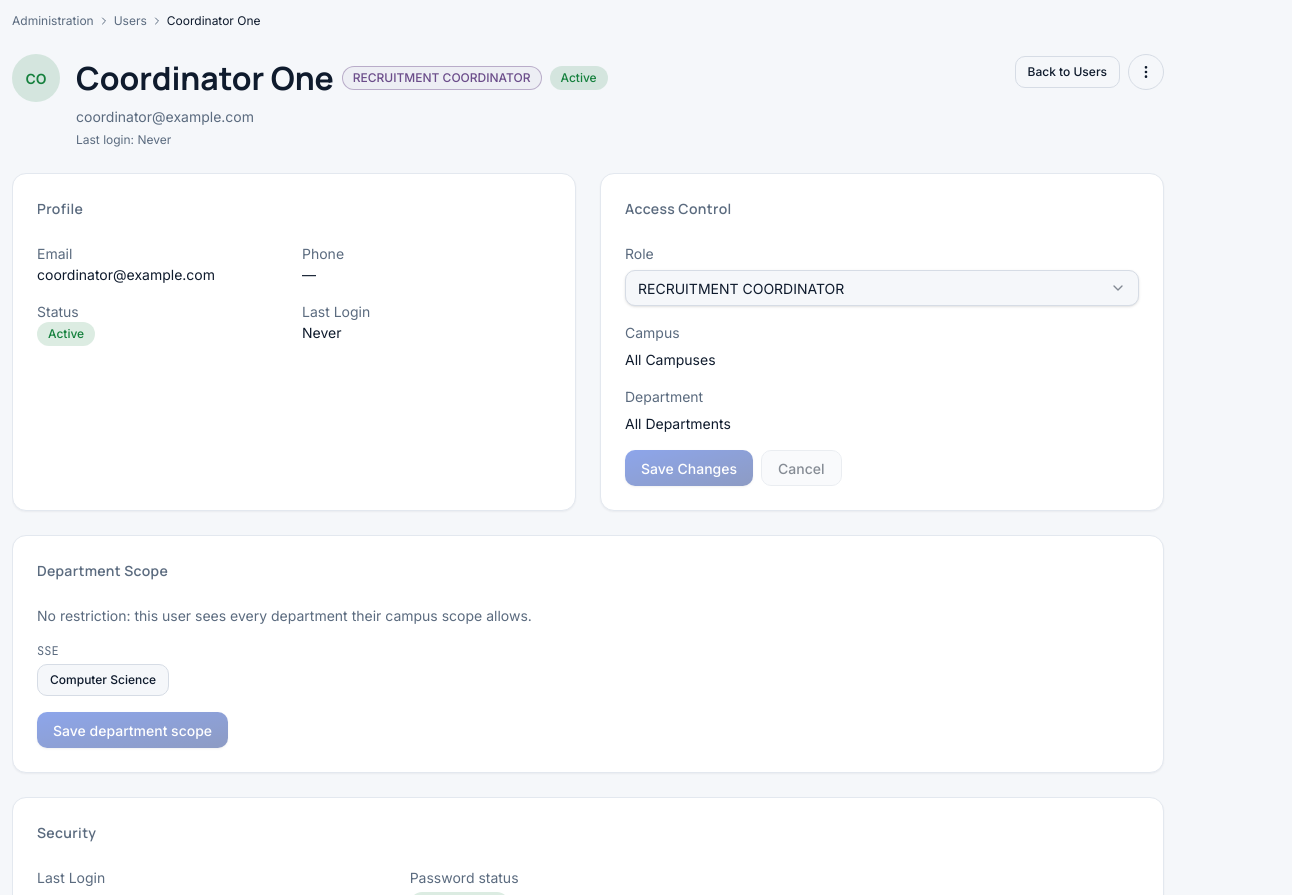
Test: UserDetailPage access control -- save/cancel › saves the new role and shows an inline confirmation
The width and height of the screenshot is (1292, 895).
Click the dropdown named "Role" at (741, 288), box [625,270,1139,306]
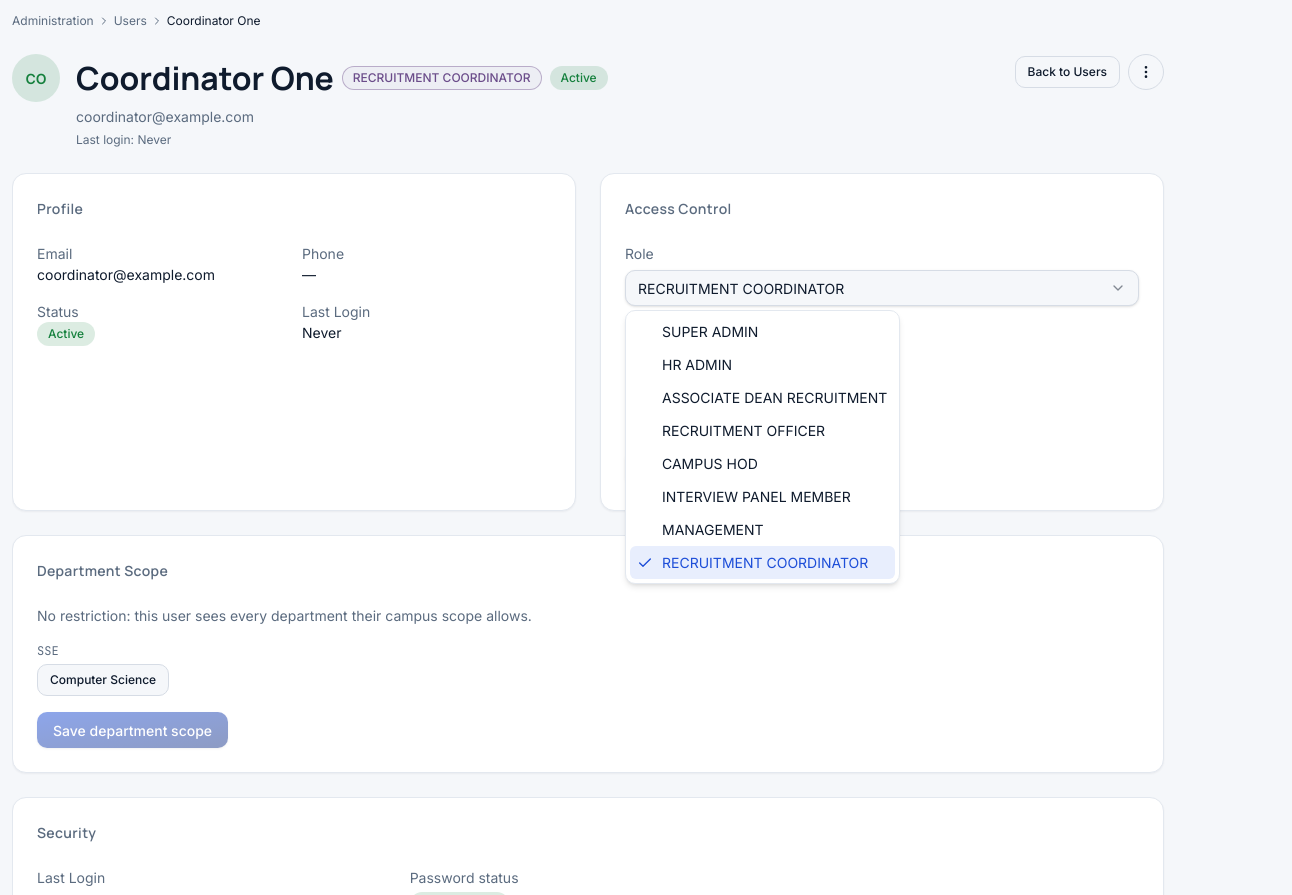
Click the option "SUPER ADMIN" at (710, 332), box [662,323,758,340]
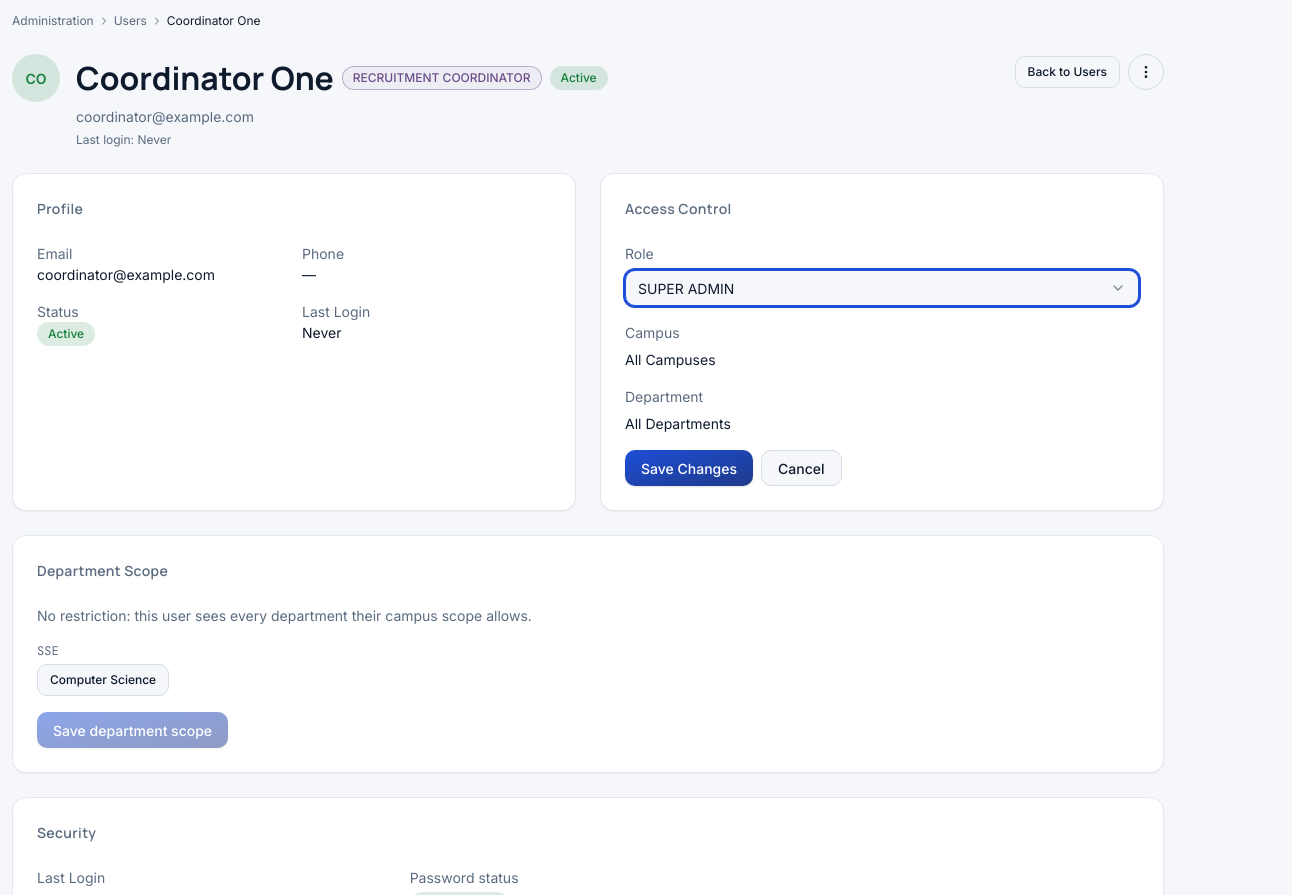
Click the button "Save Changes" at (689, 468), box [625,450,753,486]
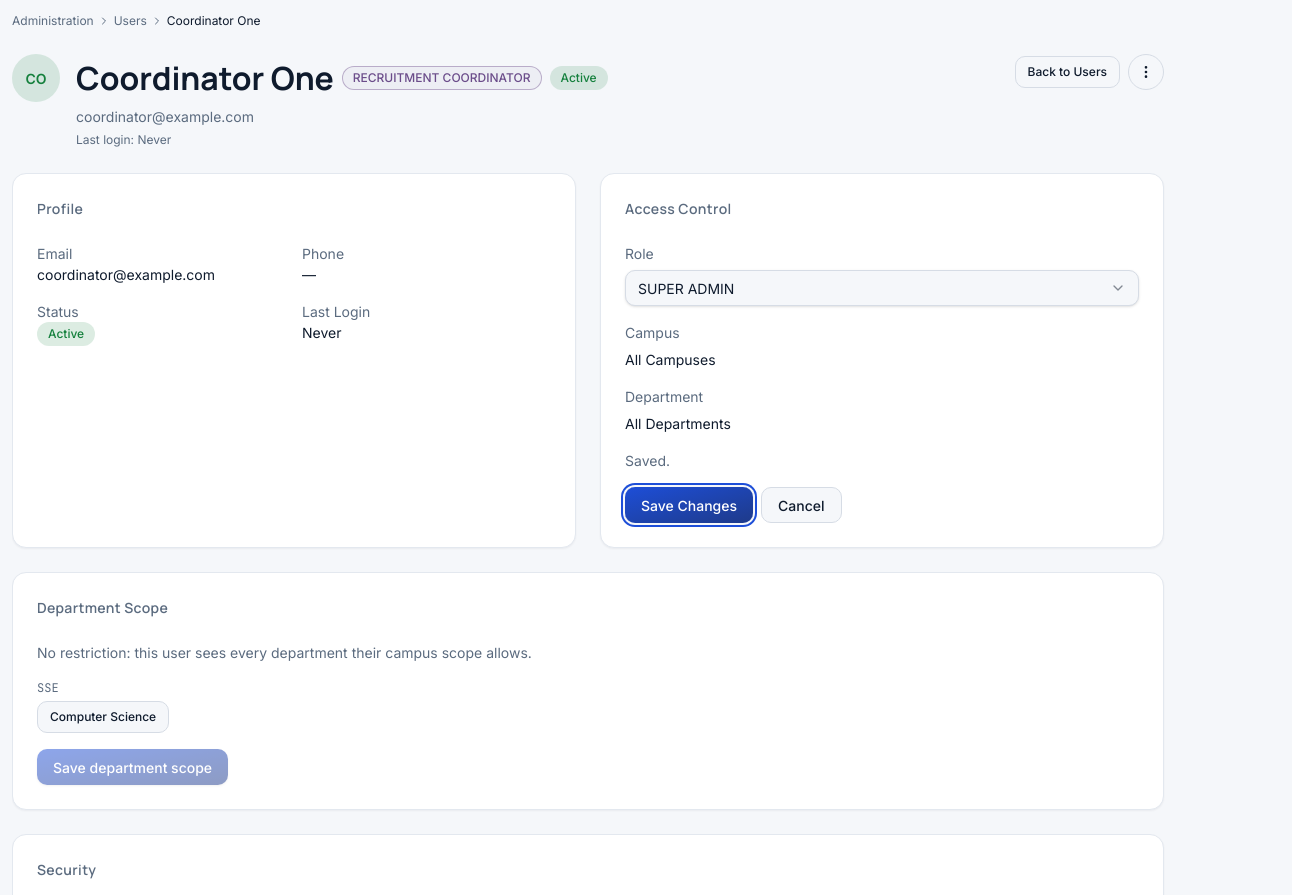
Result: the text "Saved." is shown at [625,452,670,469]
